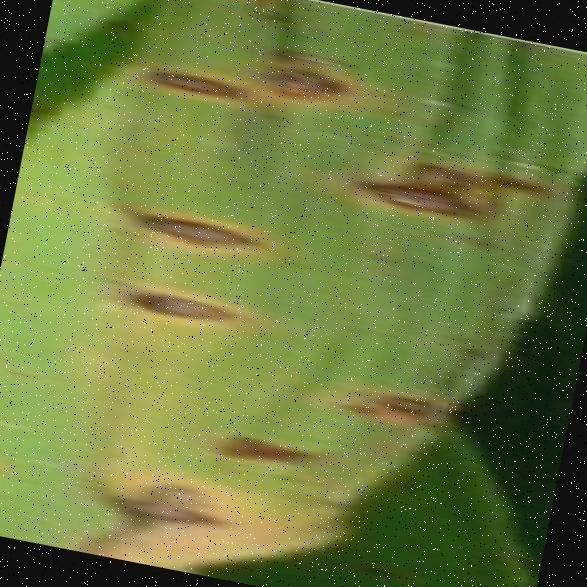Brown_Spot: (82, 258, 264, 348), (339, 156, 503, 240), (111, 186, 275, 268), (77, 472, 243, 546), (191, 411, 343, 489), (114, 45, 262, 116), (240, 52, 366, 116), (476, 148, 576, 214), (392, 142, 493, 206), (359, 376, 463, 436), (253, 30, 374, 81), (314, 384, 385, 429), (348, 550, 407, 586), (373, 464, 426, 500), (0, 356, 42, 383)
